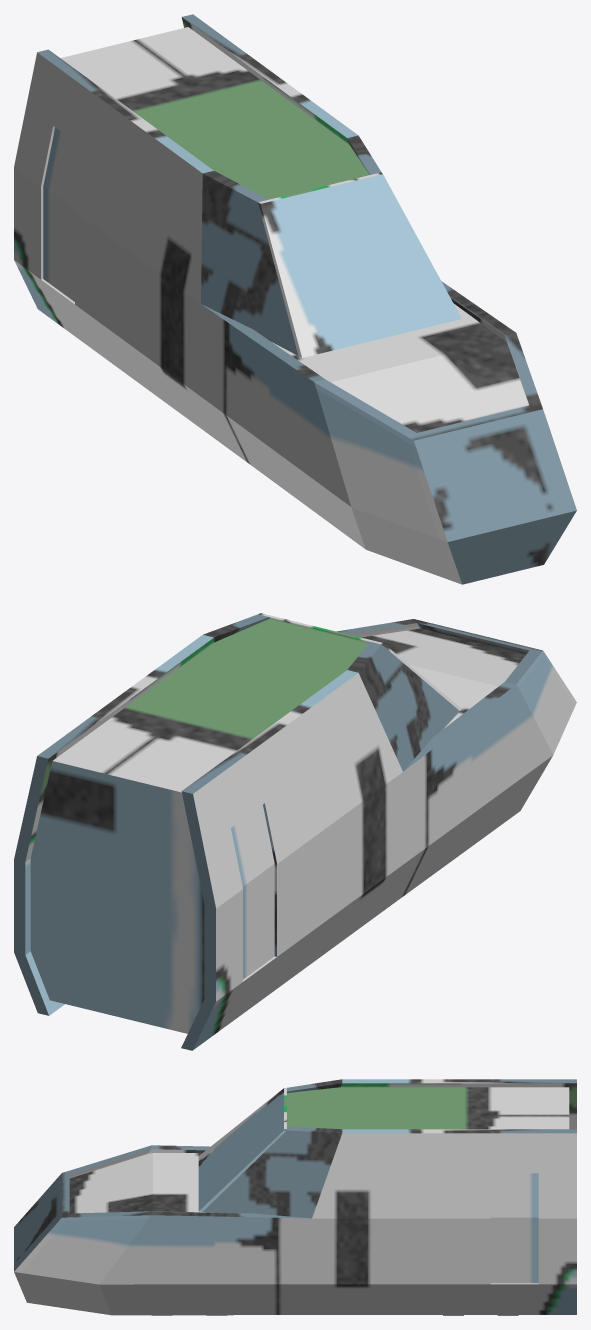
Rendered from moretrains_engine_japan.obj.
The picture shows the model from 3 angles, top to bottom: view 1: azimuth 30°, elevation 25°; view 2: azimuth 150°, elevation 25°; view 3: azimuth 270°, elevation 25°; orthographic projection. The views are drawn at different scales.
Parts seen in each view (by area): view 1: je_hull_04_Cube.000, je_hull_01_Cube.003, je_hull_02_Cube.001, jw_doors.001_Cube.012; view 2: je_hull_04_Cube.000, je_hull_01_Cube.003, je_hull_02_Cube.001, jw_doors.001_Cube.012; view 3: je_hull_04_Cube.000, je_hull_01_Cube.003, je_hull_02_Cube.001, jw_doors.001_Cube.012.
Boxes of the visible parts, <box> form: je_hull_04_Cube.000: <box>14,14,576,584</box>; je_hull_01_Cube.003: <box>60,27,369,199</box>; je_hull_02_Cube.001: <box>272,303,528,432</box>; jw_doors.001_Cube.012: <box>43,127,86,301</box>; je_hull_04_Cube.000: <box>14,613,576,1050</box>; je_hull_01_Cube.003: <box>30,618,369,1033</box>; je_hull_02_Cube.001: <box>361,628,525,728</box>; jw_doors.001_Cube.012: <box>231,805,274,979</box>; je_hull_04_Cube.000: <box>14,1079,576,1315</box>; je_hull_01_Cube.003: <box>287,1087,569,1129</box>; je_hull_02_Cube.001: <box>69,1153,210,1213</box>; jw_doors.001_Cube.012: <box>490,1173,538,1283</box>.
Size of the model in its own units: 18.17 by 23.27 by 61.84.
